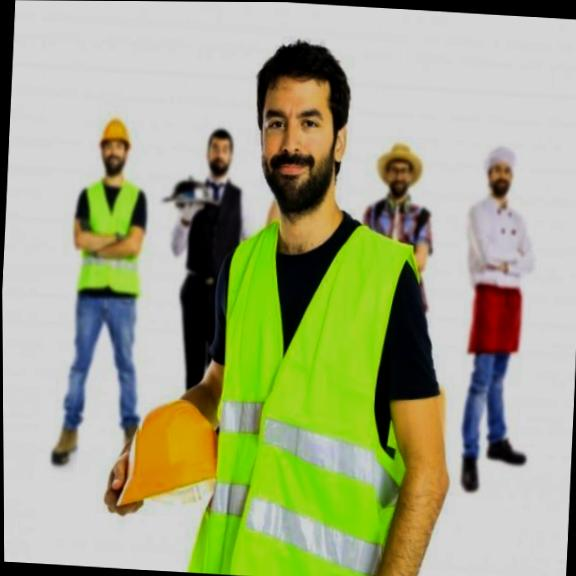safety_vest: (218, 213, 444, 576), (77, 175, 144, 303)
